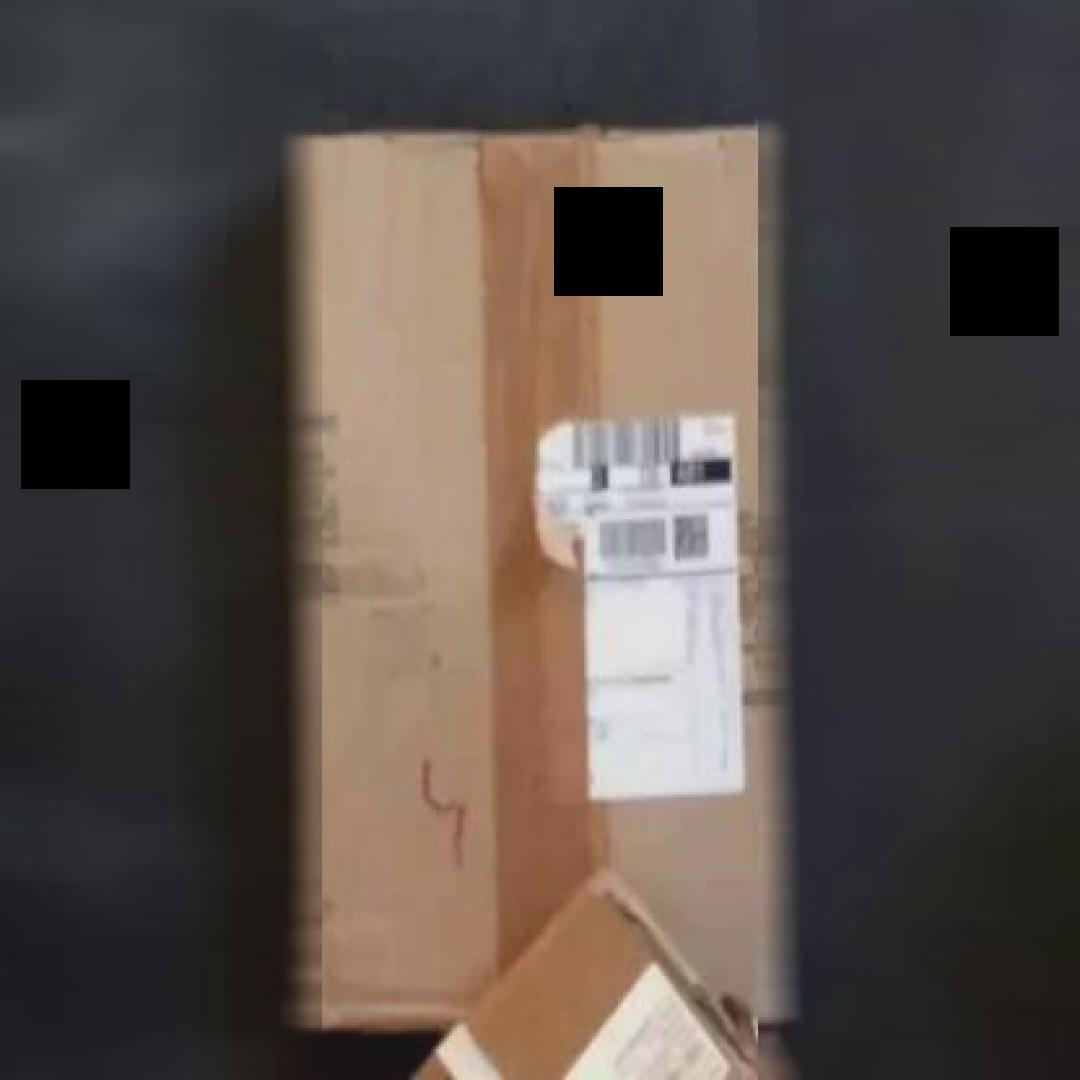package: (282, 114, 782, 1044)
